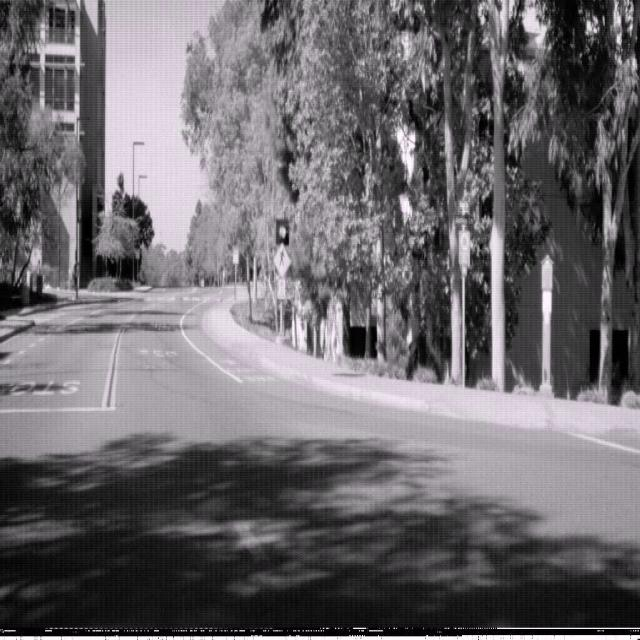pedestrianCrossing: (273, 242, 292, 280)
